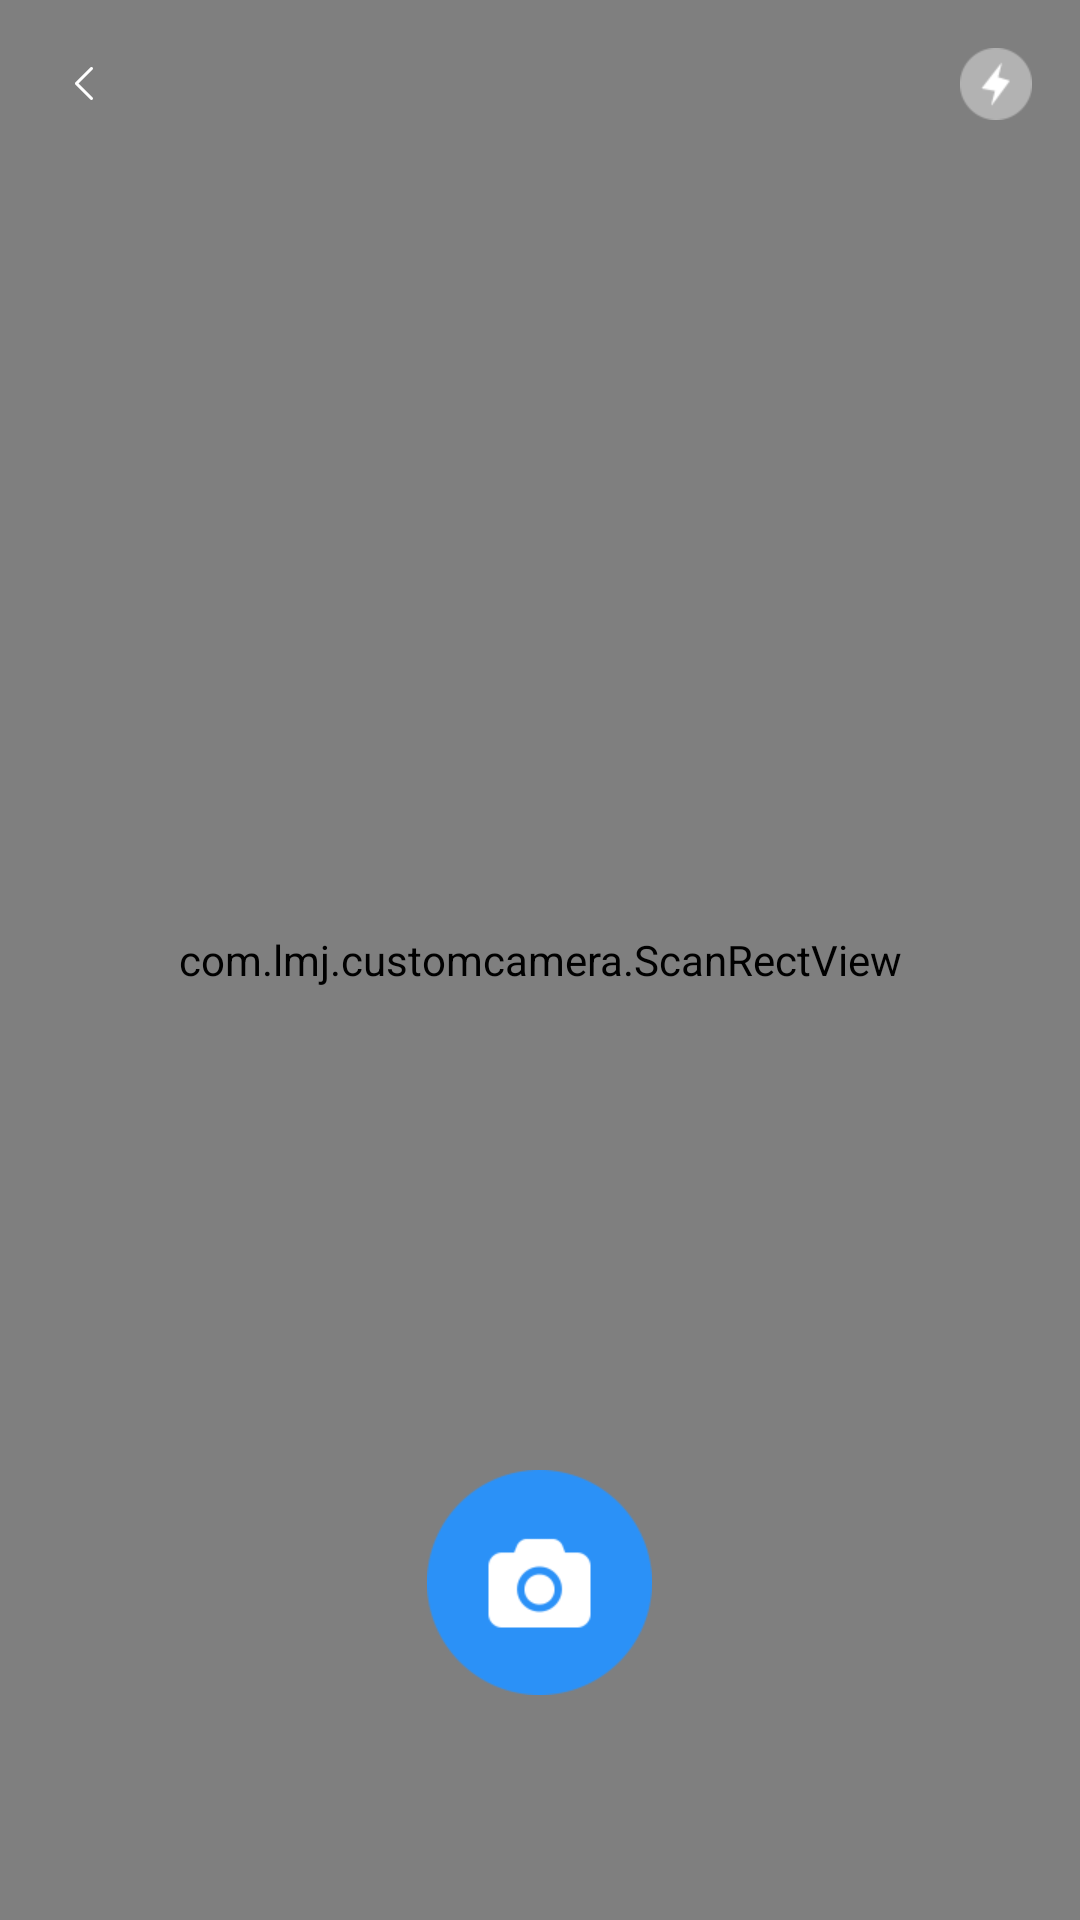

Point at icon controls on the screen. Image size 1080 × 1920, points as [x,y].
arrowleft: [84,83]
car camera: [539,1582]
car flash: [996,84]
